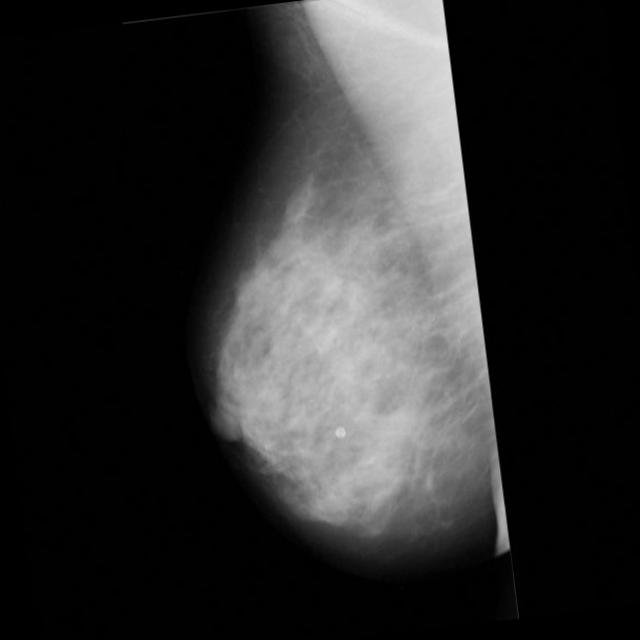CALC: (312, 343, 325, 355)
